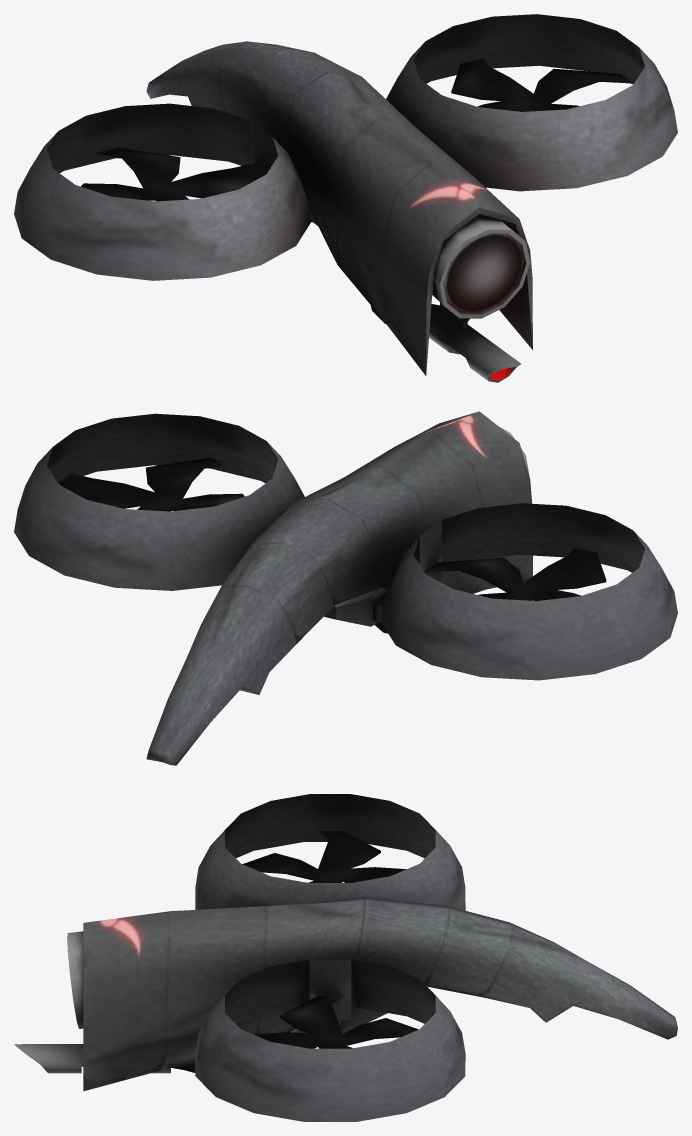
Rendered from drone.fbx.
3 renders of one model, top to bottom at view 1: azimuth 30°, elevation 25°; view 2: azimuth 150°, elevation 25°; view 3: azimuth 270°, elevation 25°, orthographic. The views are drawn at different scales.
Visible parts, largest first — view 1: PA_Drone, PA_DroneWingLeft, PA_DroneWingRight, PA_DroneBladeLeft, PA_DroneBladeRight; view 2: PA_Drone, PA_DroneWingLeft, PA_DroneWingRight, PA_DroneBladeRight, PA_DroneBladeLeft; view 3: PA_Drone, PA_DroneWingRight, PA_DroneWingLeft, PA_DroneBladeRight, PA_DroneBladeLeft.
Part boxes in pixels (left/top/right/bottom): PA_Drone: left=146, top=41, right=532, bottom=382; PA_DroneWingLeft: left=14, top=103, right=315, bottom=280; PA_DroneWingRight: left=386, top=14, right=677, bottom=191; PA_DroneBladeLeft: left=81, top=147, right=267, bottom=201; PA_DroneBladeRight: left=451, top=58, right=633, bottom=111; PA_Drone: left=146, top=411, right=532, bottom=765; PA_DroneWingLeft: left=373, top=503, right=677, bottom=680; PA_DroneWingRight: left=14, top=413, right=304, bottom=590; PA_DroneBladeRight: left=58, top=458, right=244, bottom=511; PA_DroneBladeLeft: left=425, top=547, right=606, bottom=600; PA_Drone: left=14, top=897, right=677, bottom=1091; PA_DroneWingRight: left=195, top=959, right=465, bottom=1121; PA_DroneWingLeft: left=195, top=794, right=465, bottom=910; PA_DroneBladeRight: left=253, top=996, right=418, bottom=1048; PA_DroneBladeLeft: left=242, top=831, right=406, bottom=882.
Bounding box in the file's own units: 77.37 × 22.91 × 77.6.
1 material, 1 textured.
